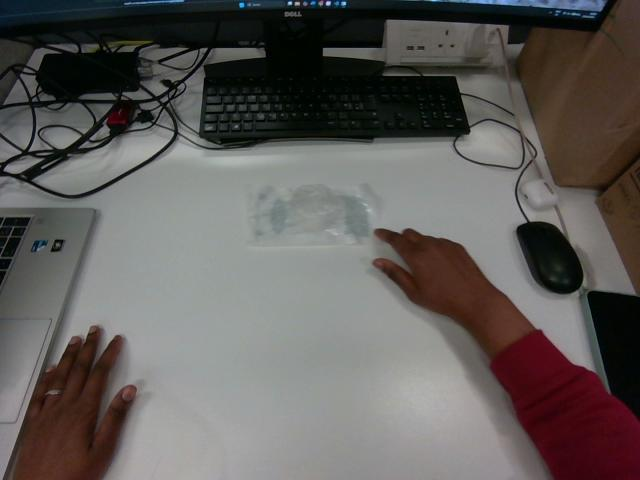gallipot: (249, 184, 374, 245)
